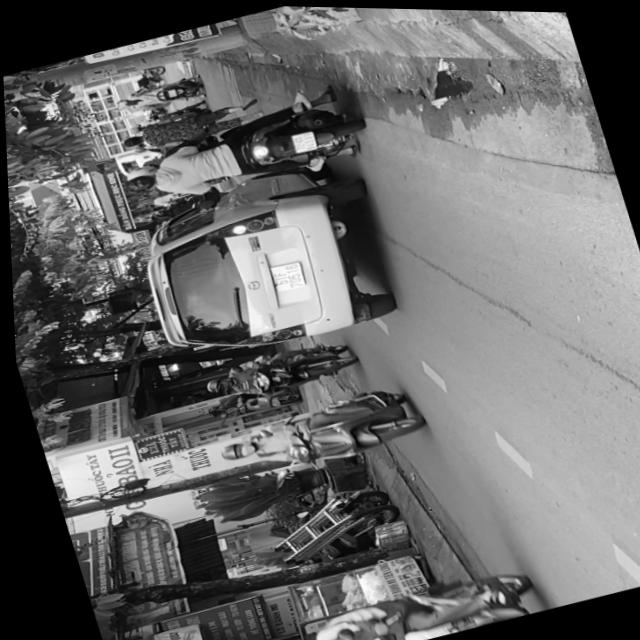helmet: (212, 436, 253, 464), (198, 373, 230, 395)
licenseplate: (104, 78, 374, 221), (245, 545, 555, 640), (203, 373, 427, 490), (193, 329, 359, 413)
motorcyclist: (119, 169, 159, 197)
nohelmet: (287, 127, 316, 152)
